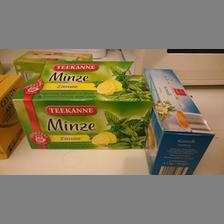Tee: (10, 70, 154, 150), (140, 65, 212, 173)
